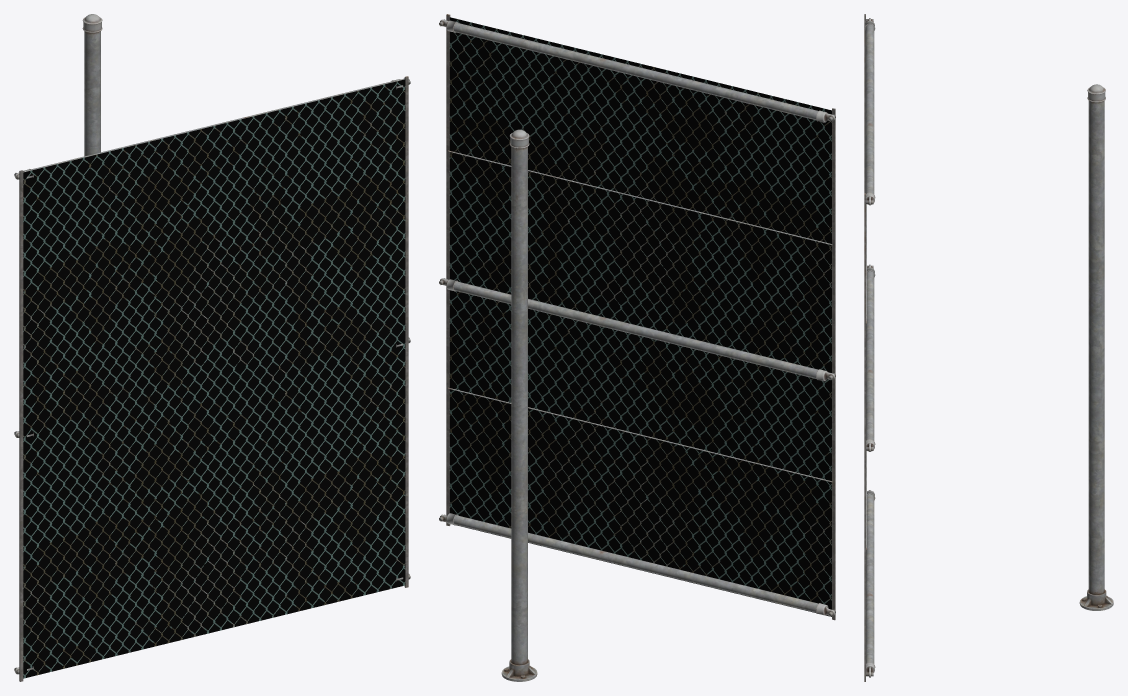
File: modular_chainlink_fence.gltf
3 views of the same model, side by side, from view 1: azimuth 30°, elevation 25°; view 2: azimuth 150°, elevation 25°; view 3: azimuth 270°, elevation 25° (orthographic). The views are drawn at different scales.
Parts seen in each view (by area): view 1: modular_chainlink_fence_double, modular_chainlink_fence_post; view 2: modular_chainlink_fence_double, modular_chainlink_fence_post; view 3: modular_chainlink_fence_post, modular_chainlink_fence_double.
Part boxes in pixels (<box>): modular_chainlink_fence_double: <box>14,76,410,681</box>; modular_chainlink_fence_post: <box>82,14,102,156</box>; modular_chainlink_fence_double: <box>439,14,835,620</box>; modular_chainlink_fence_post: <box>501,129,537,681</box>; modular_chainlink_fence_post: <box>1079,84,1113,610</box>; modular_chainlink_fence_double: <box>864,14,875,681</box>.
Size of the model in its own units: 1.91 by 2.52 by 1.1.
2 materials, 2 textured.
